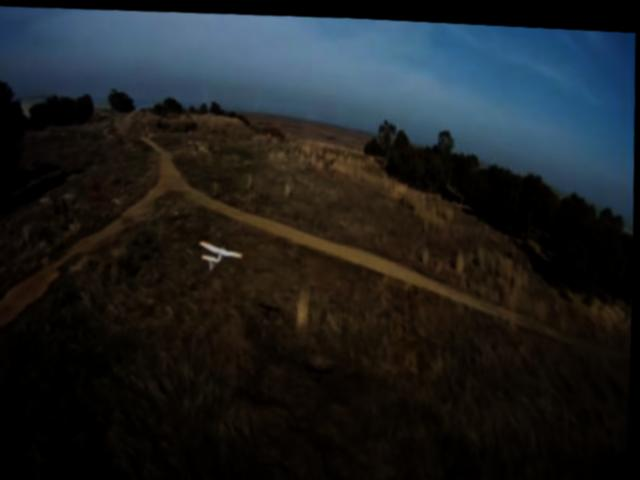uav: (197, 230, 248, 276)
